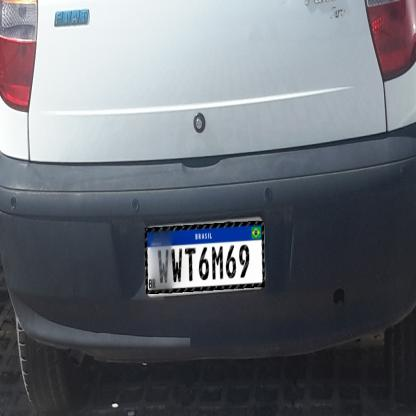PlacaM: (145, 221, 265, 294)
